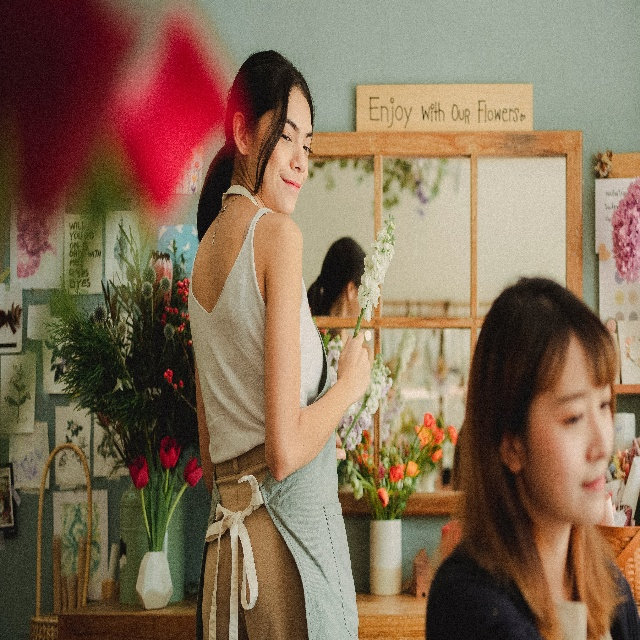Sin_guantes: (337, 331, 372, 398)
